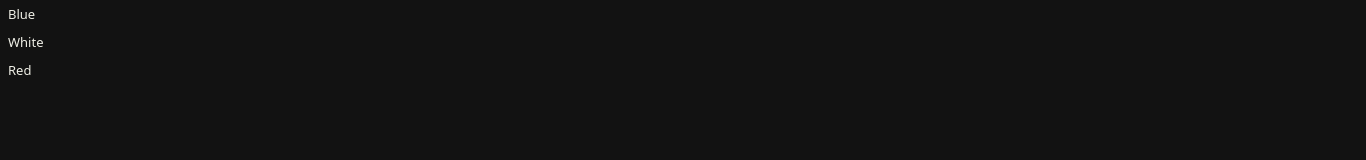
it: the focus ring and the selection › hands the ring to the selected row, drawn inside it, and to no other
What coordinates should you click on to do the following:
click the option with aria-label "2, White"
I would click on:
 (26, 42)
Its box is x1=8 y1=33 x2=44 y2=51.
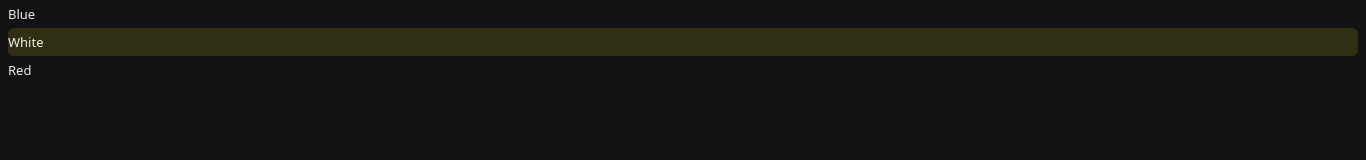
Result: the option "White" has attribute data-ring="inside" at x1=8 y1=28 x2=1358 y2=56
